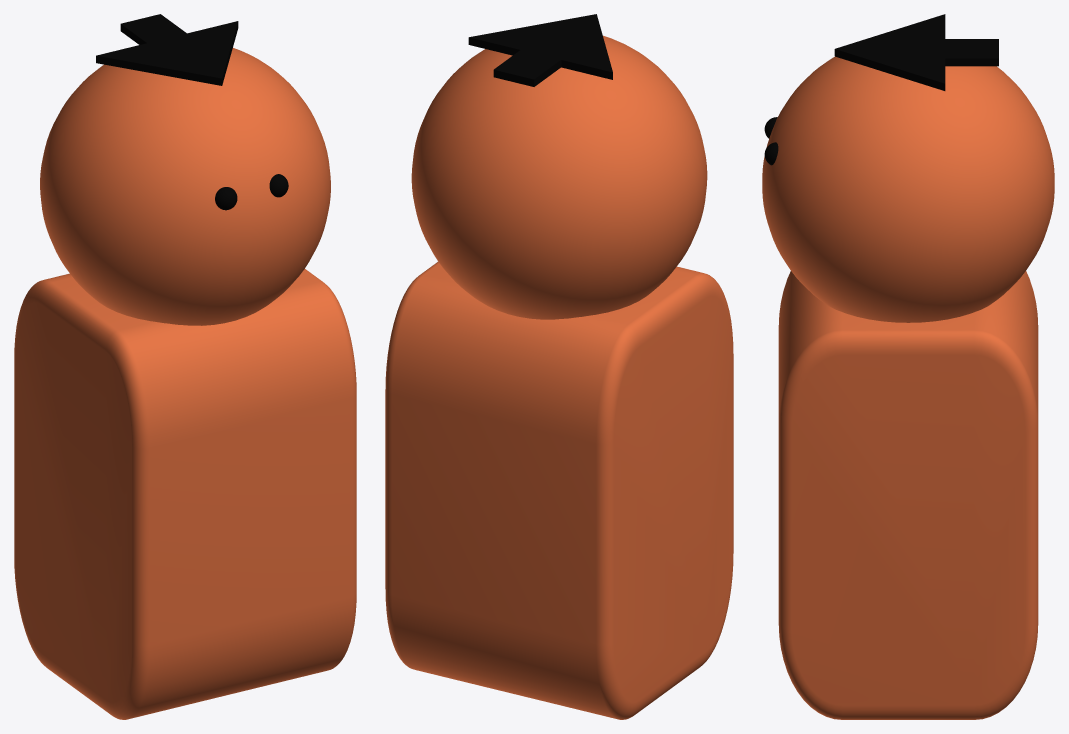
The model's file is 2beige.obj.
The picture shows the model from 3 angles, left to right: view 1: azimuth 30°, elevation 25°; view 2: azimuth 150°, elevation 25°; view 3: azimuth 270°, elevation 25°; orthographic projection.
Parts seen in each view (by area): view 1: Curve.002_Curve.011, Curve.002_Curve.012; view 2: Curve.002_Curve.011, Curve.002_Curve.012; view 3: Curve.002_Curve.011, Curve.002_Curve.012.
Part boxes in pixels (left/top/right/bottom): Curve.002_Curve.011: left=14, top=48, right=356, bottom=719; Curve.002_Curve.012: left=96, top=14, right=288, bottom=210; Curve.002_Curve.011: left=385, top=35, right=733, bottom=719; Curve.002_Curve.012: left=468, top=14, right=612, bottom=86; Curve.002_Curve.011: left=762, top=56, right=1054, bottom=719; Curve.002_Curve.012: left=764, top=14, right=998, bottom=165.
Bounding box in the file's own units: 0.2062 × 0.4819 × 0.2057.
